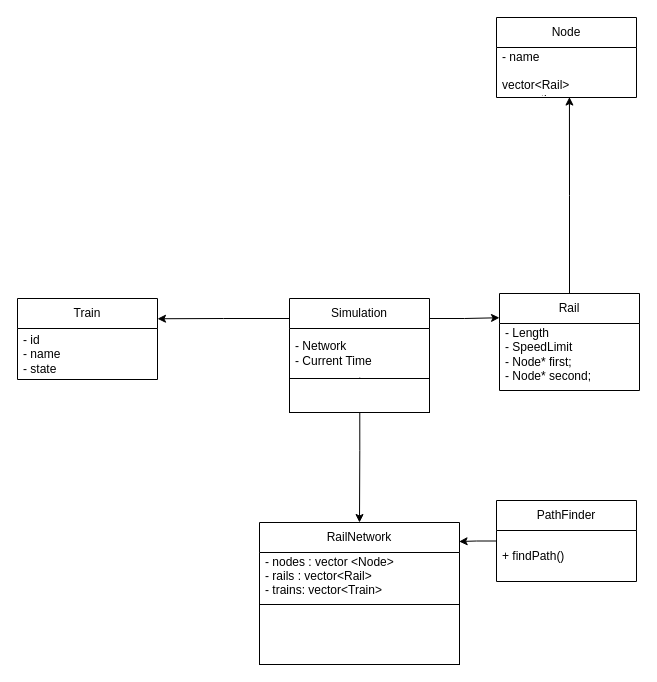
Some shapes in this 657 by 682 pixel diagram are drawn without their labels. Each missing label, with the centre of its shape:
+ add(Node/Rails/Train): the point at 359,634
+run(): the point at 359,395
